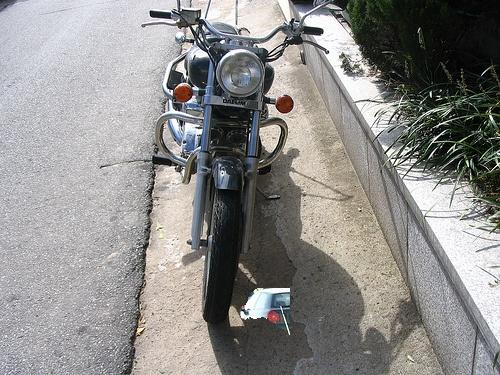tampered: (241, 289, 290, 335)
